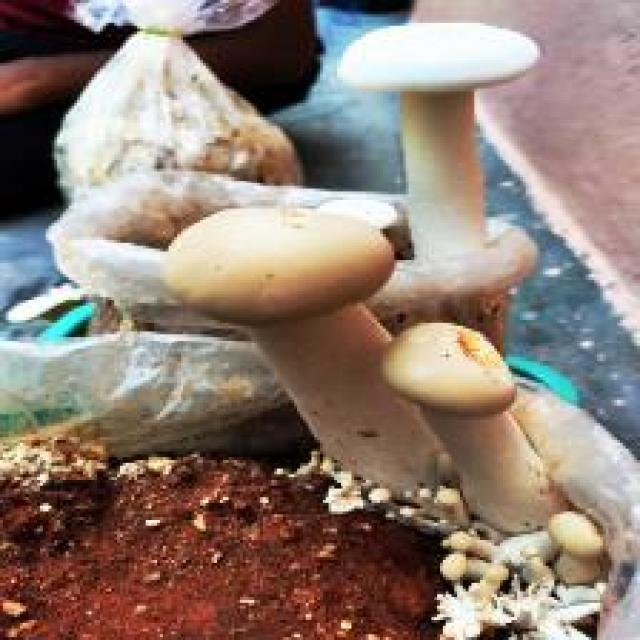field-mushroom: (160, 203, 451, 497)
